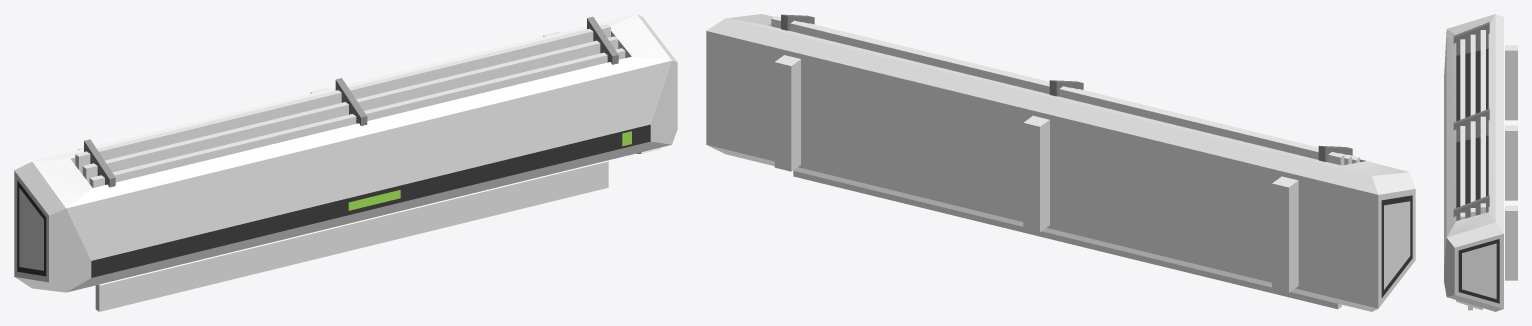
3 renders of one model, left to right at view 1: azimuth 30°, elevation 25°; view 2: azimuth 150°, elevation 25°; view 3: azimuth 270°, elevation 25°, orthographic. The views are drawn at different scales.
Visible parts, largest first — view 1: Air conditioner 1; view 2: Air conditioner 1; view 3: Air conditioner 1.
Boxes of the visible parts, x1,y1,x2,y2 form: Air conditioner 1: [14, 14, 677, 311]; Air conditioner 1: [706, 14, 1415, 311]; Air conditioner 1: [1444, 14, 1517, 311].
Bounding box in the file's own units: 2000 × 486 × 288.
